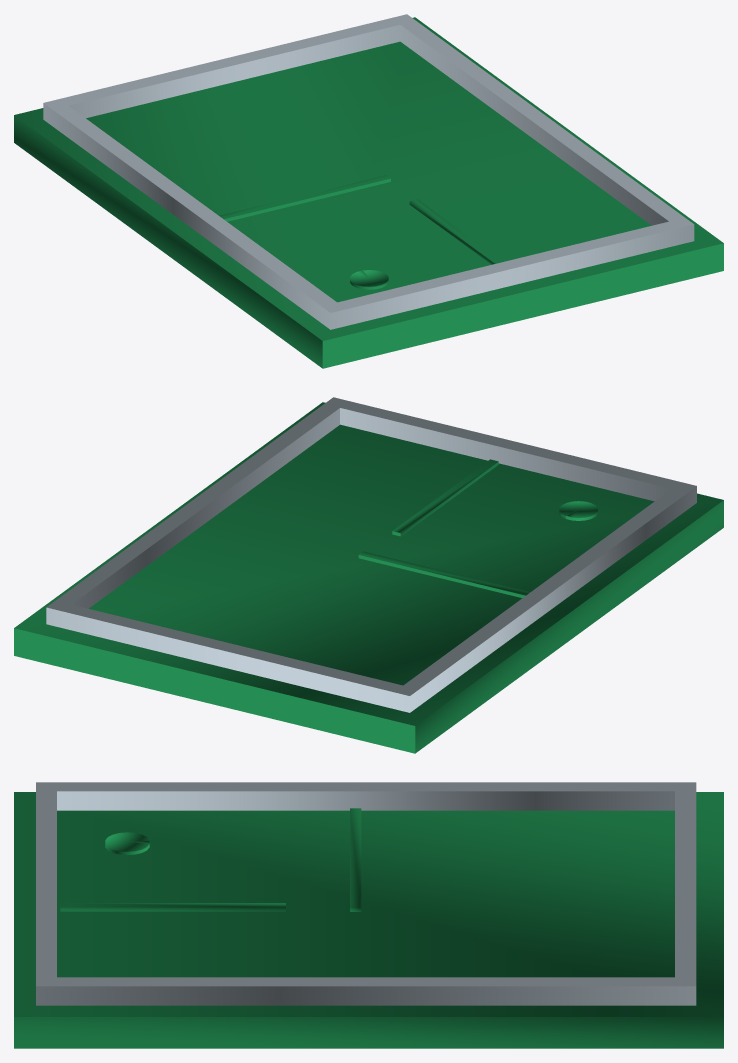
Rendered from Level22.fbx.
3 views of the same model, one above another, from view 1: azimuth 30°, elevation 25°; view 2: azimuth 150°, elevation 25°; view 3: azimuth 270°, elevation 25° (orthographic). The views are drawn at different scales.
Parts seen in each view (by area): view 1: Box002, Rectangle0; view 2: Box002, Rectangle0; view 3: Box002, Rectangle0.
Part boxes in pixels (x1,y1,x2,y2): Box002: (14,17,723,368); Rectangle0: (43,14,694,329); Box002: (14,402,723,753); Rectangle0: (46,397,696,712); Box002: (14,792,723,1048); Rectangle0: (36,782,696,1005).
Bounding box in the file's own units: 135 × 14.27 × 180.
